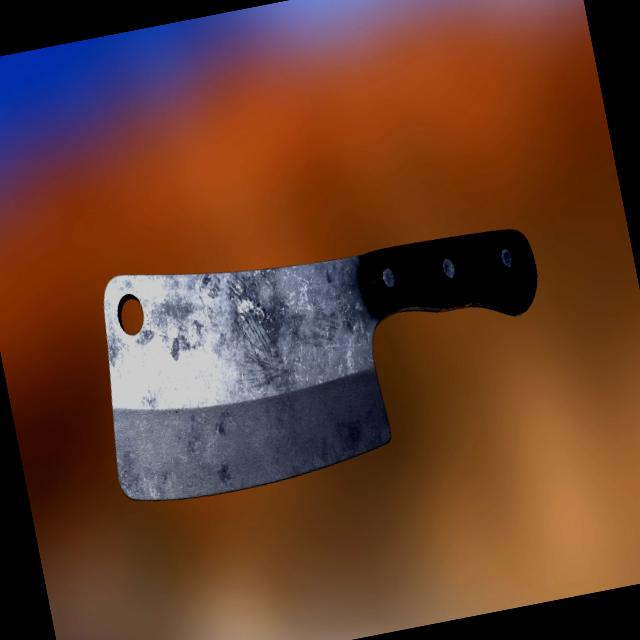cleaver: (86, 200, 561, 508)
